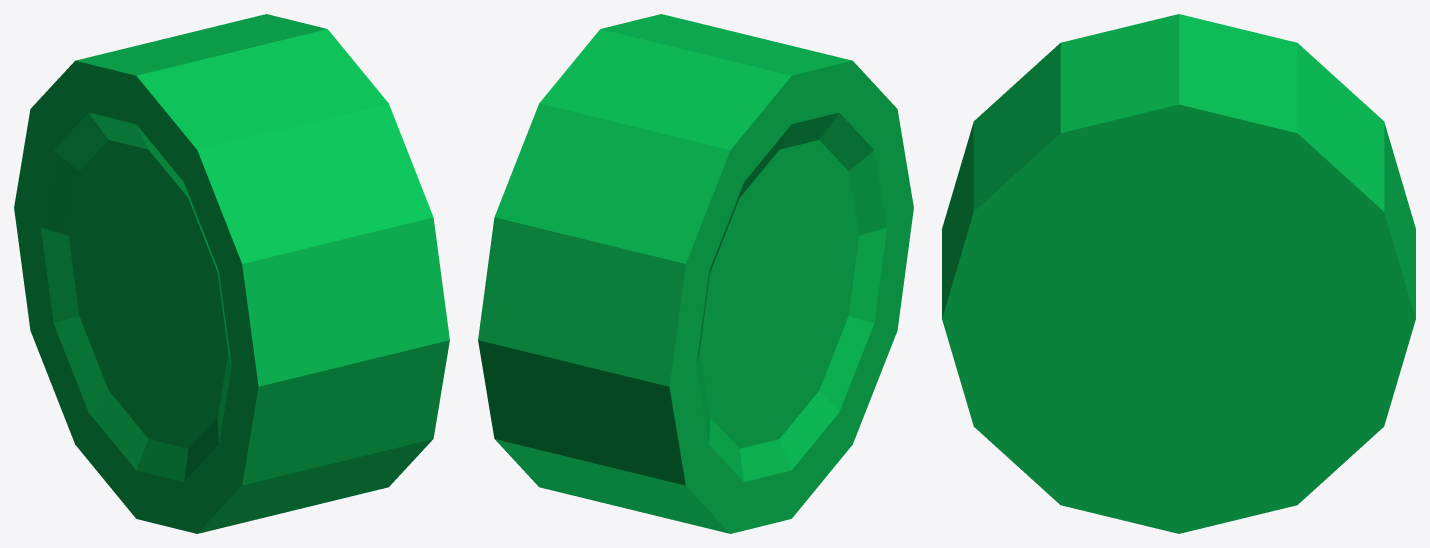
The model's file is Car_Wheel_01.fbx.
The picture shows the model from 3 angles, left to right: view 1: azimuth 30°, elevation 25°; view 2: azimuth 150°, elevation 25°; view 3: azimuth 270°, elevation 25°; orthographic projection. The views are drawn at different scales.
Parts seen in each view (by area): view 1: Car_Wheel_01; view 2: Car_Wheel_01; view 3: Car_Wheel_01.
Boxes of the visible parts, x1=… form: Car_Wheel_01: x1=14, y1=14, x2=449, y2=533; Car_Wheel_01: x1=478, y1=14, x2=913, y2=533; Car_Wheel_01: x1=942, y1=14, x2=1415, y2=533.
Bounding box in the file's own units: 18.44 × 40.79 × 40.79.
